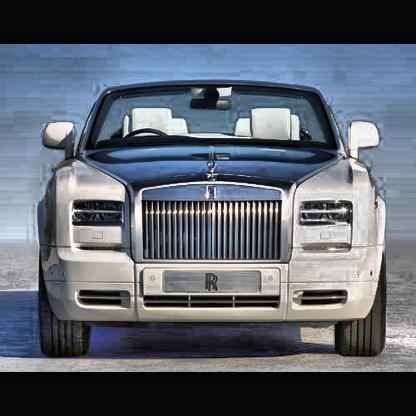Rolls-Royce Phantom Drophead Coupe Convertible 2012: (41, 77, 391, 359)
